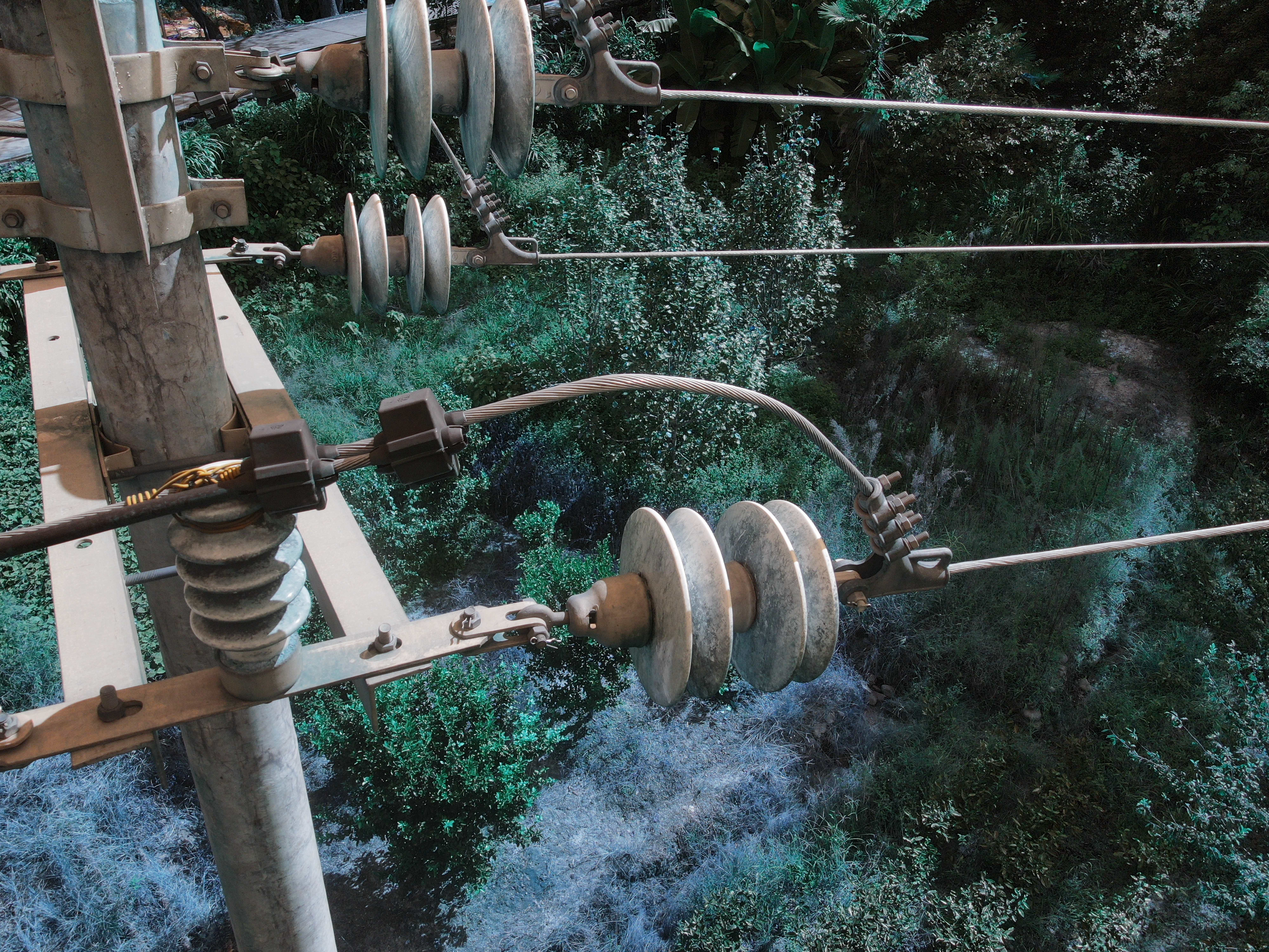severe_soiling_no_discharge_whole: (558, 495, 842, 706), (289, 3, 539, 185), (160, 465, 317, 701), (291, 192, 455, 314)
